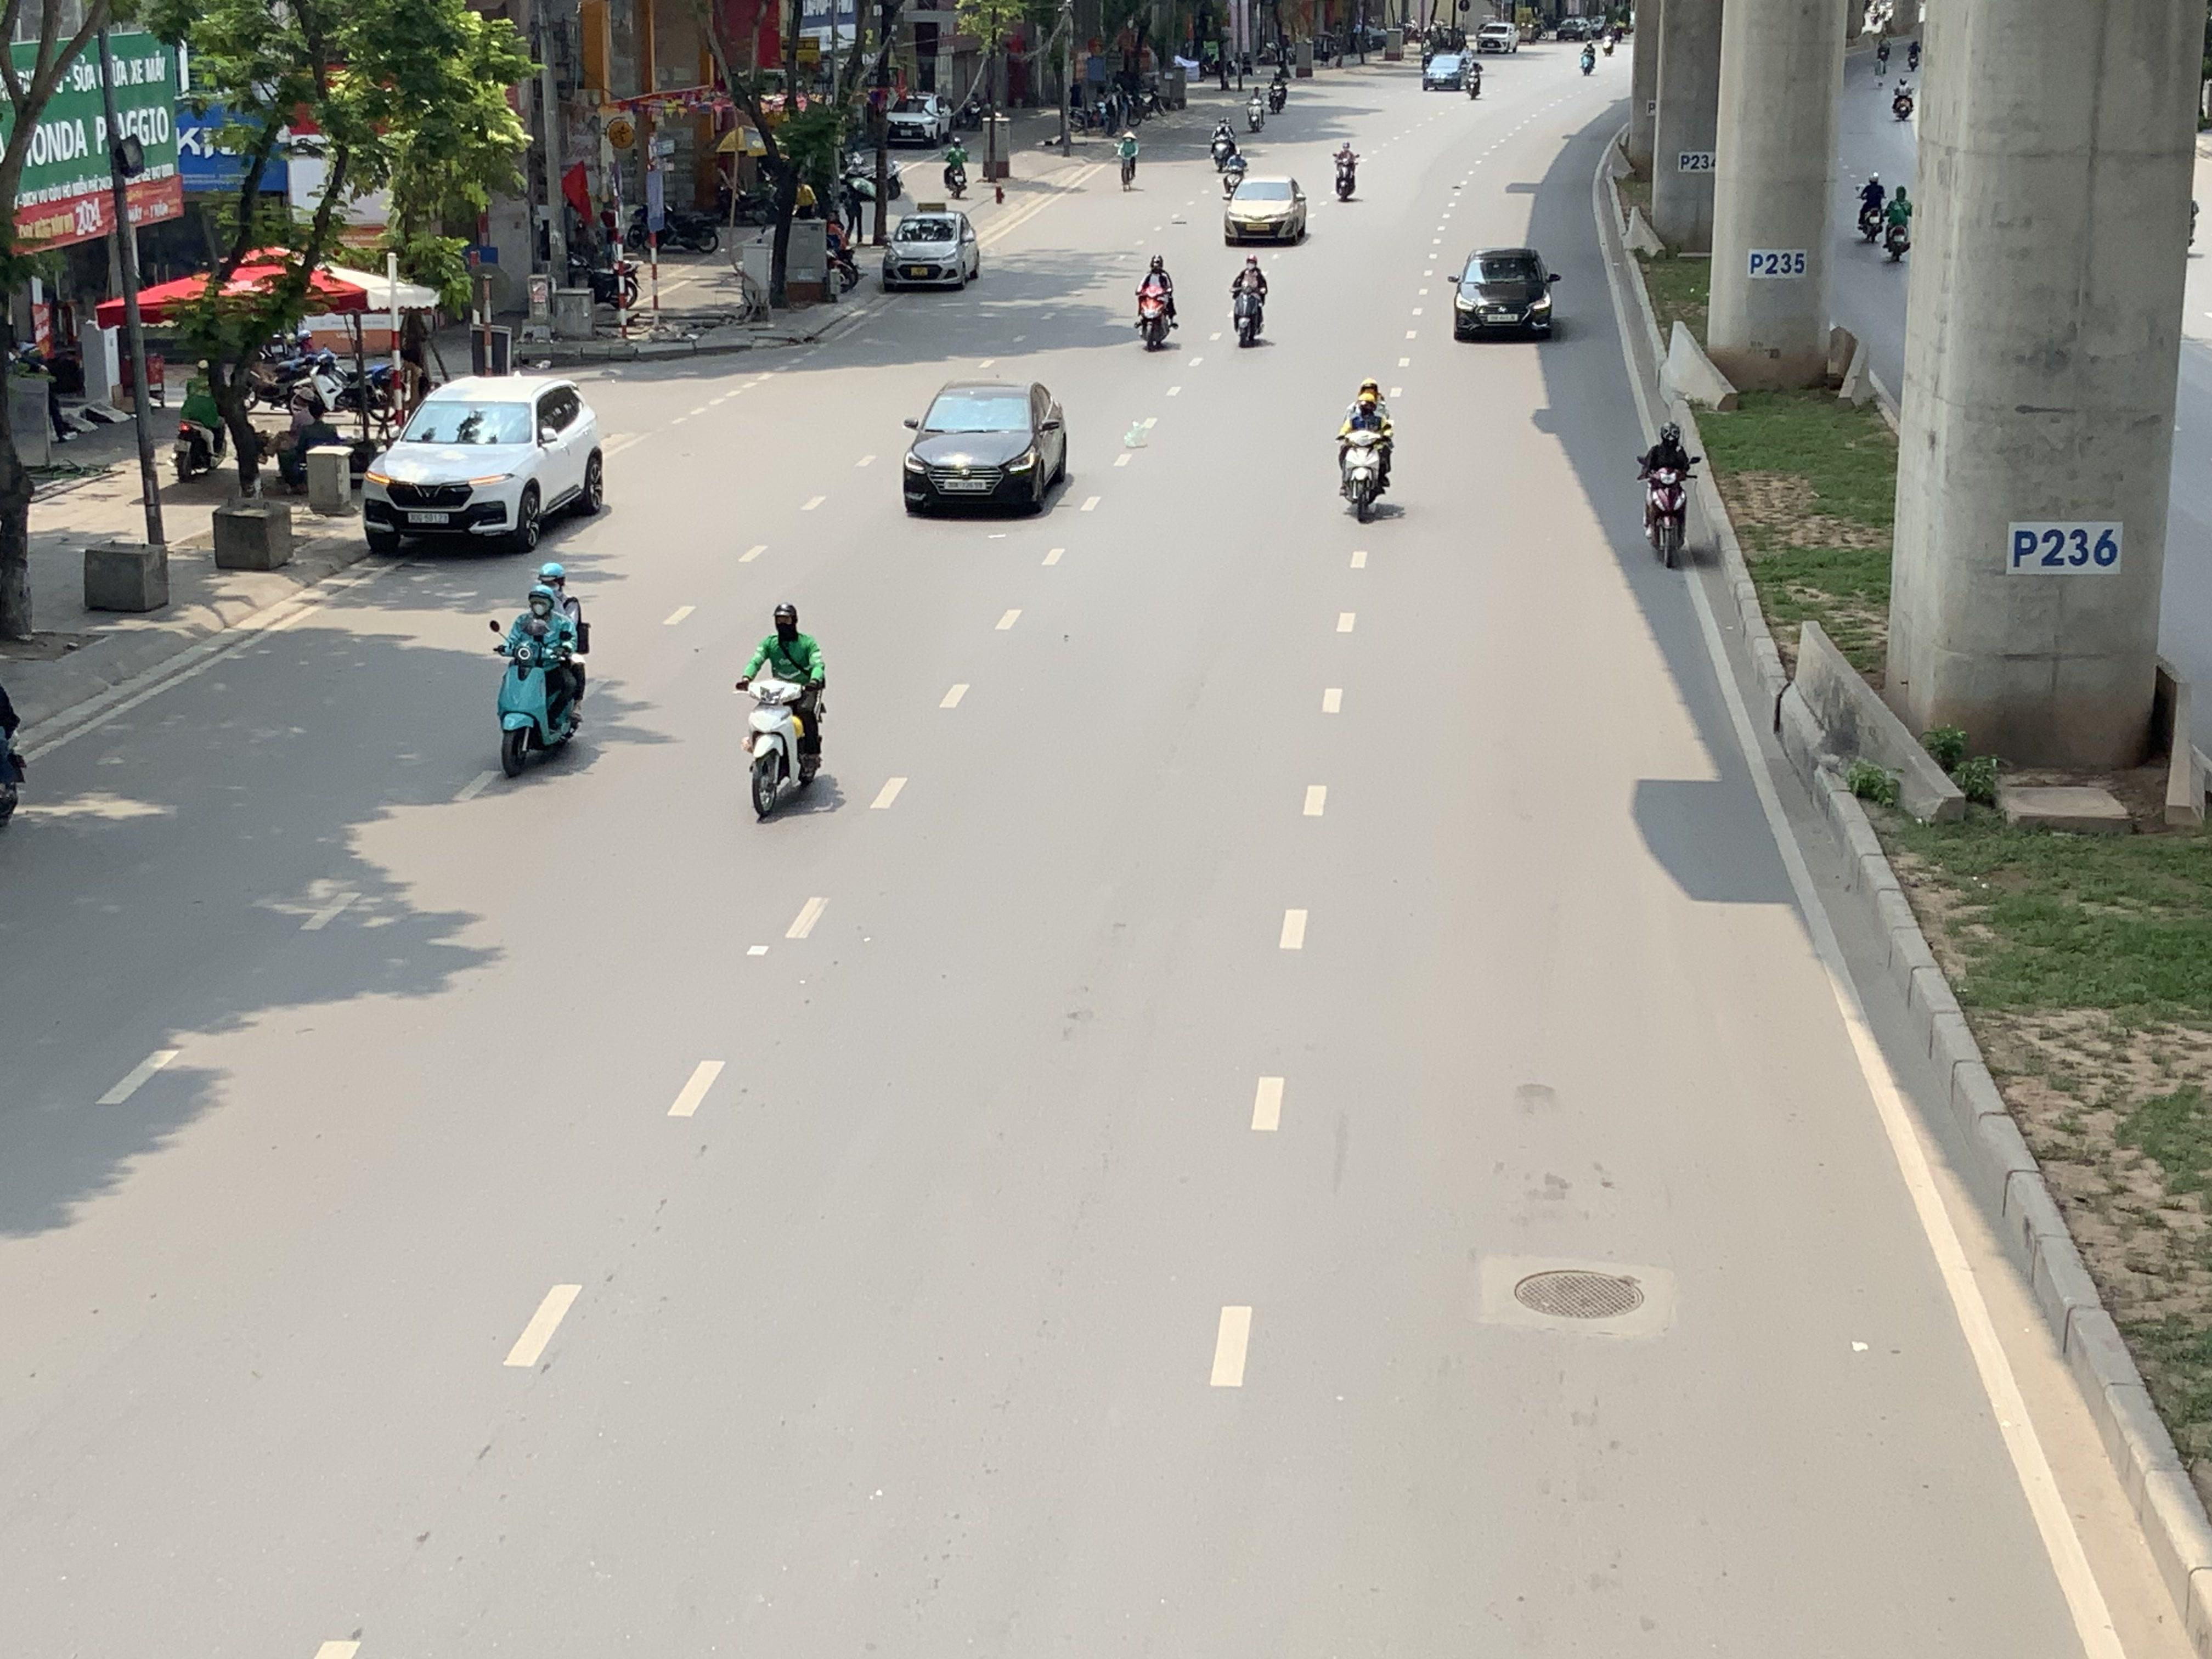BSD: (408, 511, 449, 525), (944, 479, 988, 490)
car: (362, 375, 606, 554), (900, 380, 1071, 518), (1449, 246, 1561, 342), (880, 209, 981, 291), (1223, 176, 1308, 246), (887, 94, 951, 145), (1421, 49, 1480, 92), (1475, 19, 1519, 54)
motorbike: (737, 603, 829, 823), (493, 570, 589, 779), (1336, 380, 1395, 523), (1637, 422, 1695, 568), (172, 366, 226, 483), (1134, 254, 1179, 352), (1230, 254, 1270, 349), (1879, 178, 1914, 265), (1857, 169, 1888, 242), (1332, 139, 1360, 204), (1115, 129, 1141, 192), (942, 139, 970, 197), (1212, 119, 1240, 171), (1223, 146, 1249, 193)
